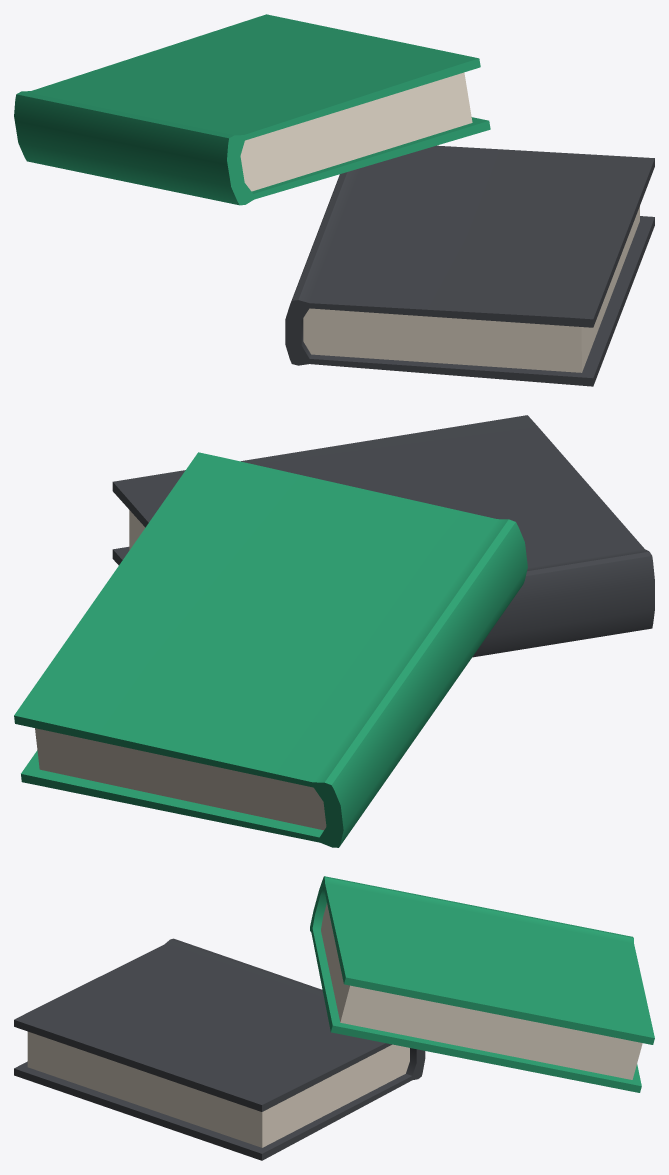
Rendered from BookPile6.fbx.
3 views of the same model, one above another, from view 1: azimuth 30°, elevation 25°; view 2: azimuth 150°, elevation 25°; view 3: azimuth 270°, elevation 25° (orthographic). The views are drawn at different scales.
Visible parts, largest first — view 1: polySurface94; view 2: polySurface94; view 3: polySurface94.
Part boxes in pixels (<box>): polySurface94: <box>14,14,654,386</box>; polySurface94: <box>14,415,654,847</box>; polySurface94: <box>14,876,654,1160</box>.
Bounding box in the file's own units: 0.704 × 0.2565 × 1.12.
